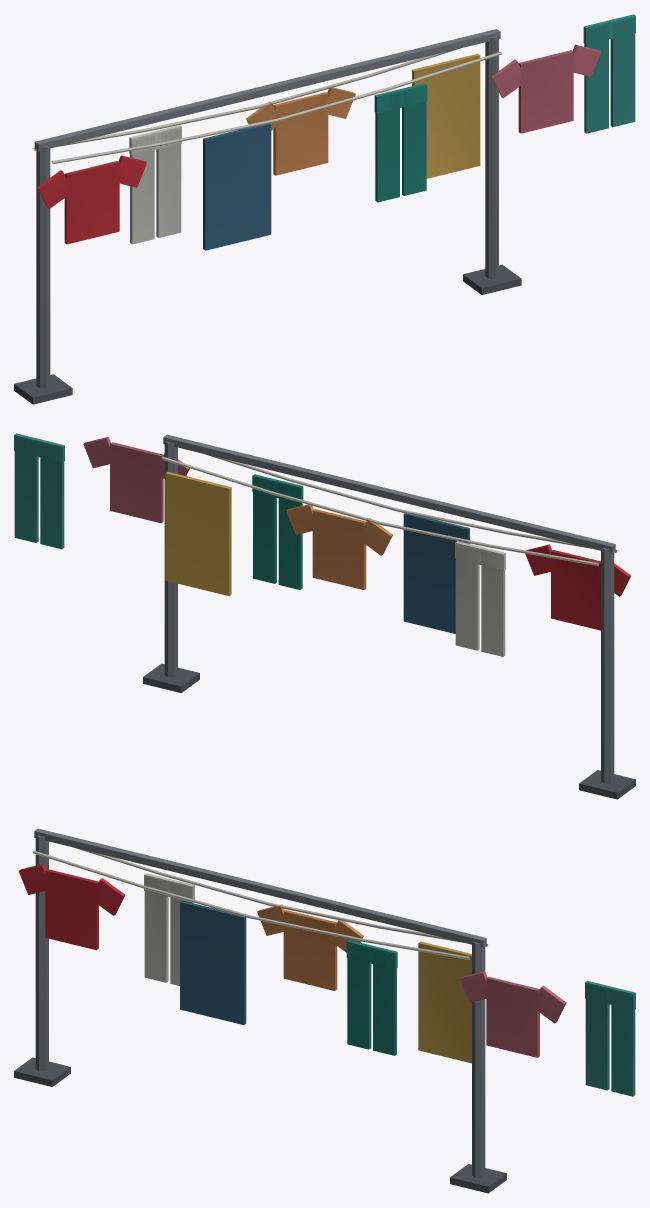
The model's file is tendedero.glb.
The picture shows the model from 3 angles, top to bottom: view 1: azimuth 30°, elevation 25°; view 2: azimuth 150°, elevation 25°; view 3: azimuth 330°, elevation 25°; orthographic projection. The views are drawn at different scales.
Visible parts, largest first — view 1: tendedero; view 2: tendedero; view 3: tendedero.
Boxes of the visible parts, left/top/right/bottom form: tendedero: left=14, top=14, right=635, bottom=404; tendedero: left=14, top=433, right=635, bottom=799; tendedero: left=14, top=828, right=635, bottom=1193.
Bounding box in the file's own units: 4.7 × 1.82 × 0.27.
